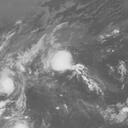cyclone: (49, 49, 74, 71)
